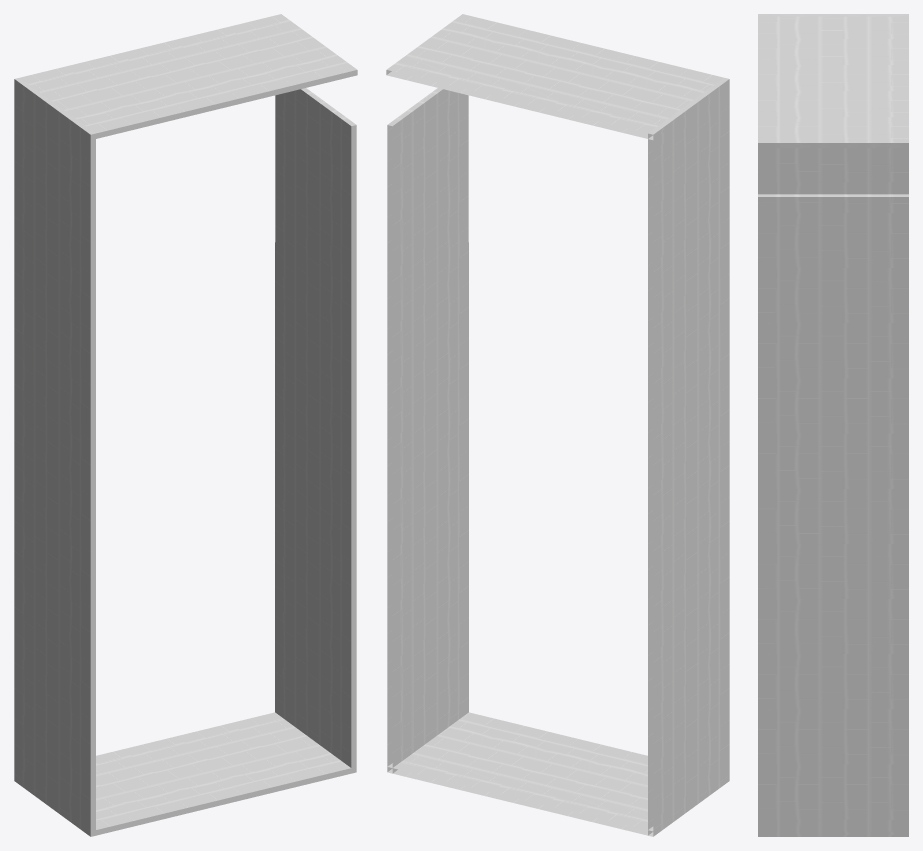
Rendered from wall_1.obj.
3 views of the same model, side by side, from view 1: azimuth 30°, elevation 25°; view 2: azimuth 150°, elevation 25°; view 3: azimuth 270°, elevation 25° (orthographic).
Parts seen in each view (by area): view 1: walls; view 2: walls; view 3: walls.
Boxes of the visible parts, x1=… form: walls: x1=14, y1=14, x2=357, y2=836; walls: x1=386, y1=14, x2=729, y2=836; walls: x1=758, y1=14, x2=908, y2=836.
Bounding box in the file's own units: 5.05 × 12.7 × 2.5.
Materials: 1 (1 with a texture image).
